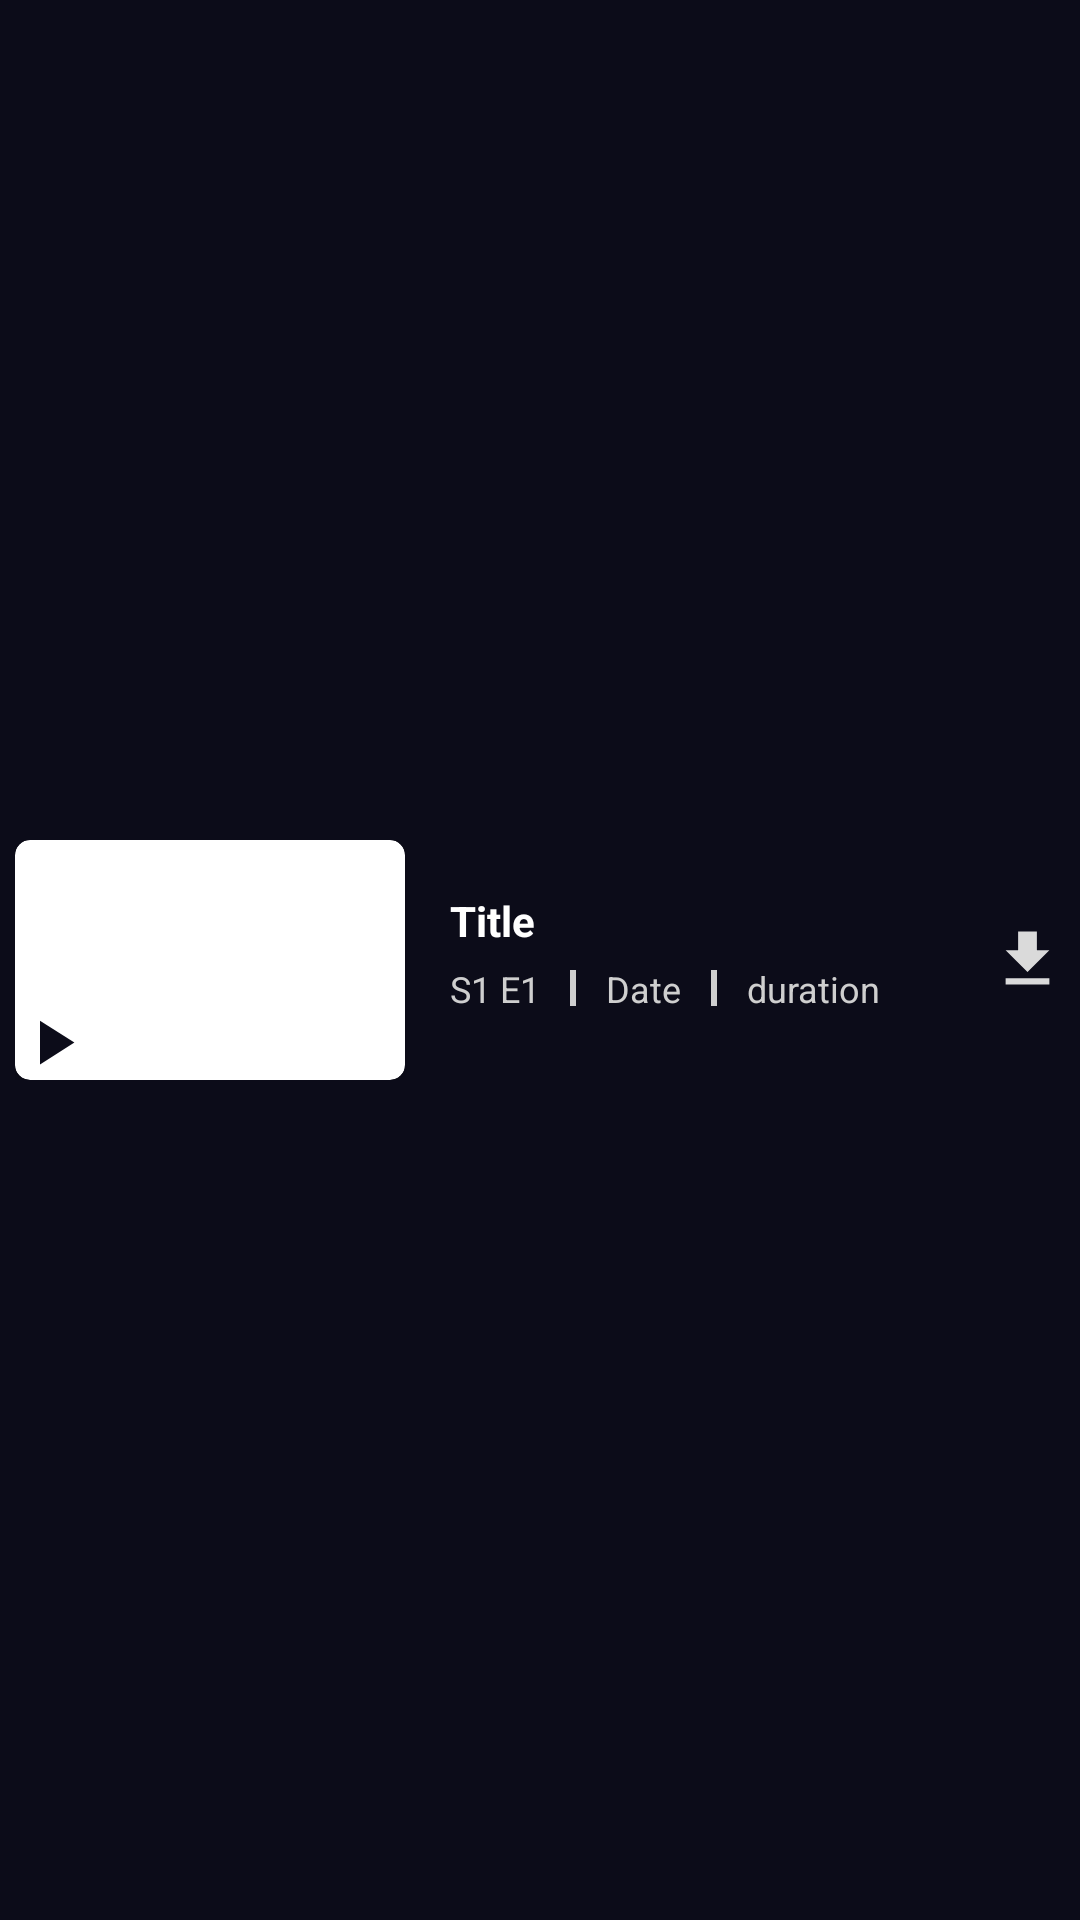

Where to tap for icons on this 1080*1920 app screen, as point (x, y):
download: point (1027, 958)
play arrow: point (57, 1043)
